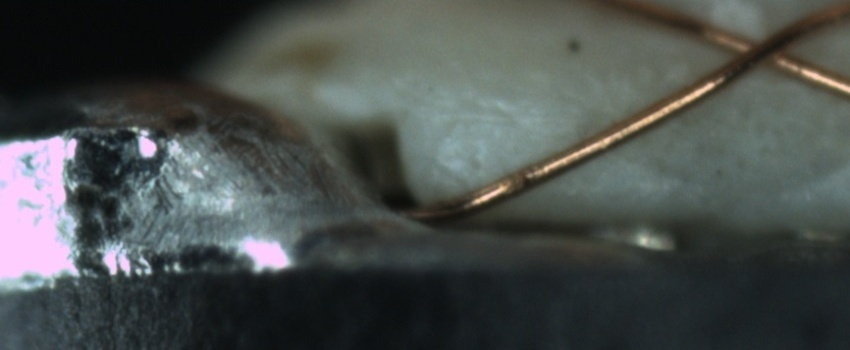CL: (715, 15, 814, 80)
DL: (432, 82, 585, 146)
